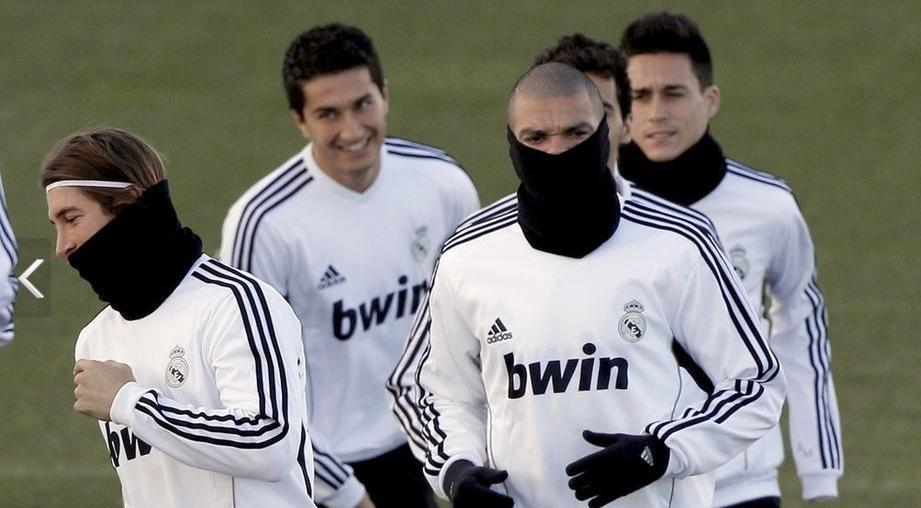NONE: (626, 77, 701, 159), (311, 95, 385, 172)
OK: (513, 110, 607, 204)
WRONG: (47, 197, 135, 284)
